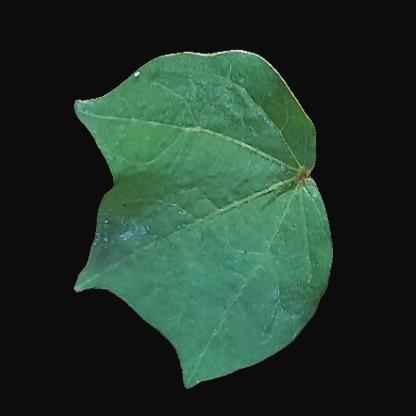healthy: (149, 115, 299, 324)
